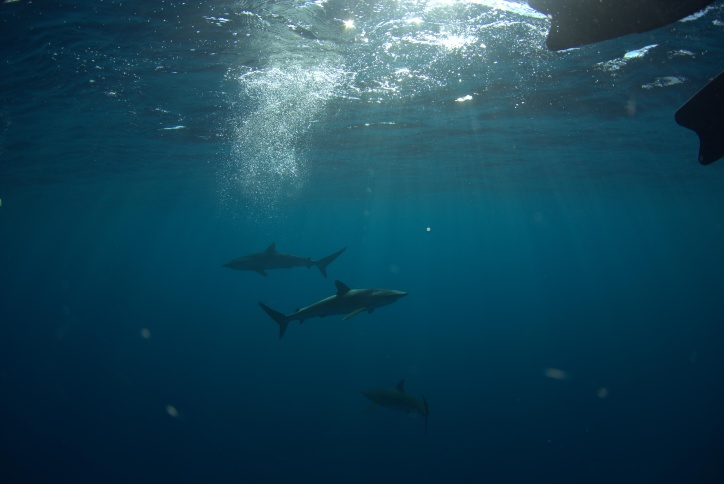Sedoso: (207, 240, 350, 278)
